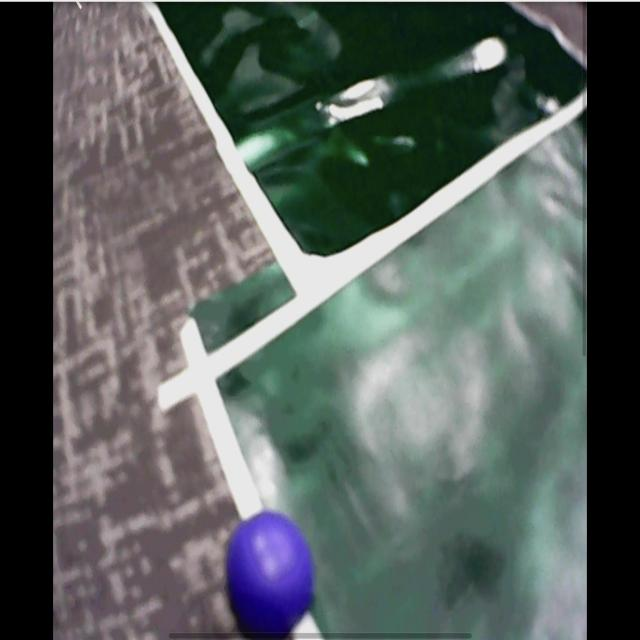ball: (229, 512, 315, 640)
